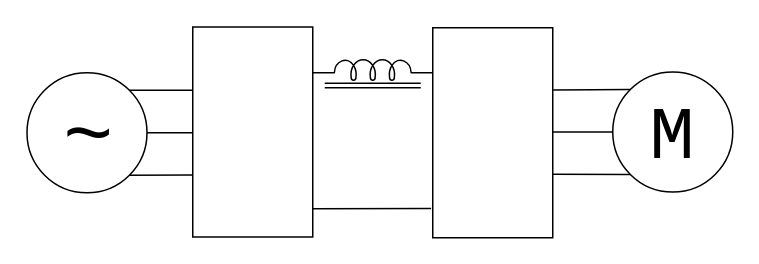
This 759x264 diagram has some shape labels left out. The centre of each missing label's shape, as x and y in pixels:
"BRIDGE RECTIFIER" belongs at point (252, 131).
"n-LVL INVERTER" belongs at point (492, 132).
